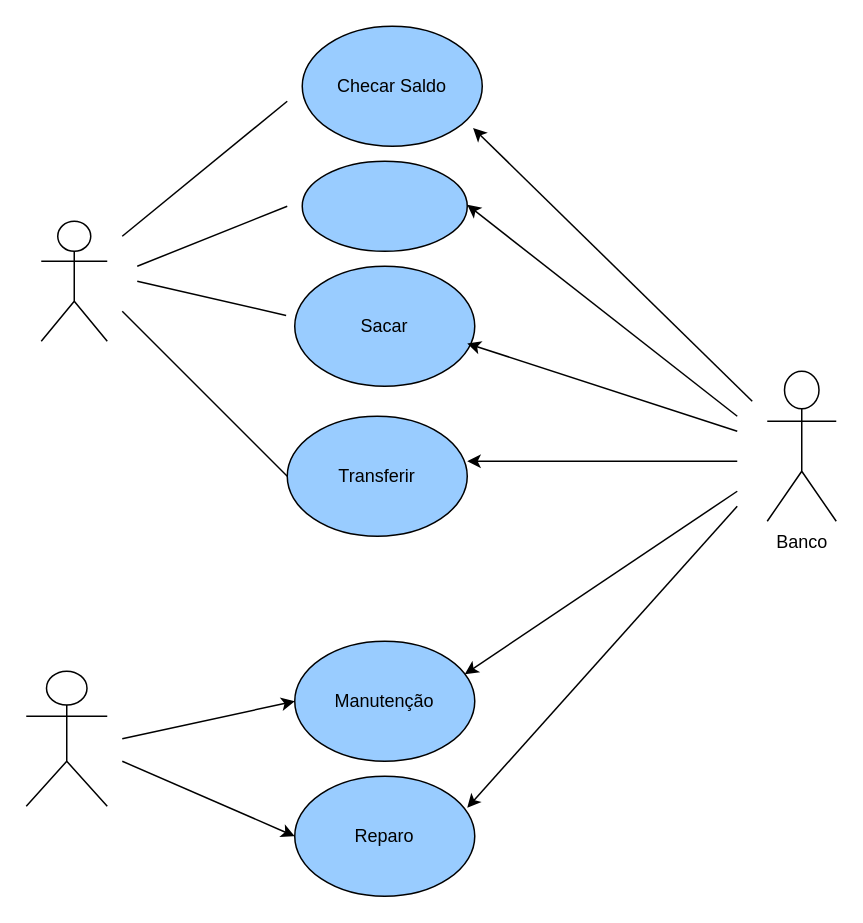
The diagram is 863 pixels wide and 923 high, and some of its shapes have lost their labels. Each missing label, with the centre of its shape:
"Cliente" belongs at (73,280).
"Depositar" belongs at (384,205).
"Técnico" belongs at (66,738).
